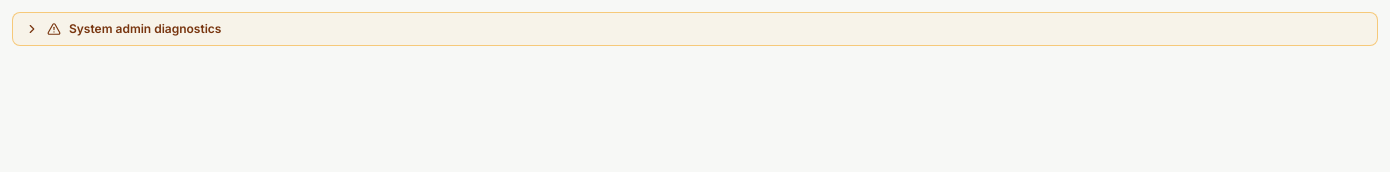
Test case: system admin diagnostics panel › is collapsed by default for admins and expands on click
Check: the text "internal detail" is not shown
Click the button "System admin diagnostics" at (145, 28), box [13, 13, 1377, 45]
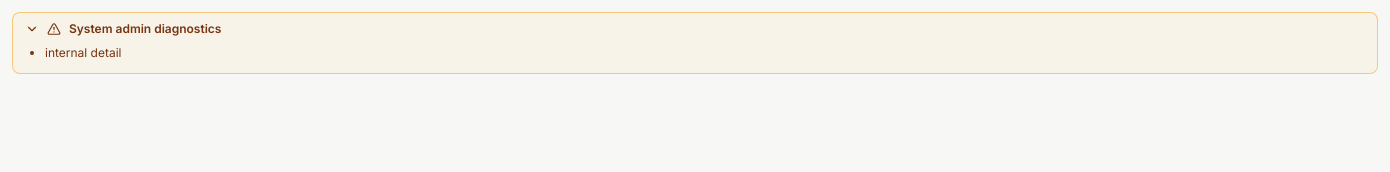
Check: the list item "internal detail" is shown, box [45, 45, 122, 60]
